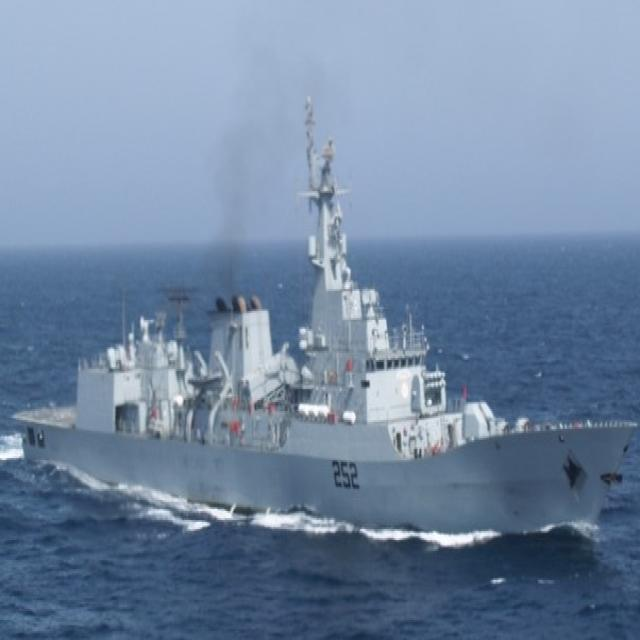navalvessels: (19, 91, 640, 538)
